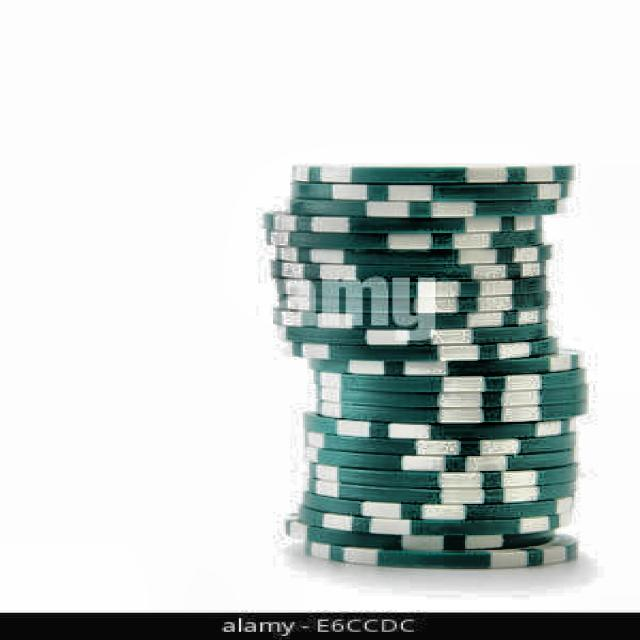Chip: (237, 154, 618, 584)
